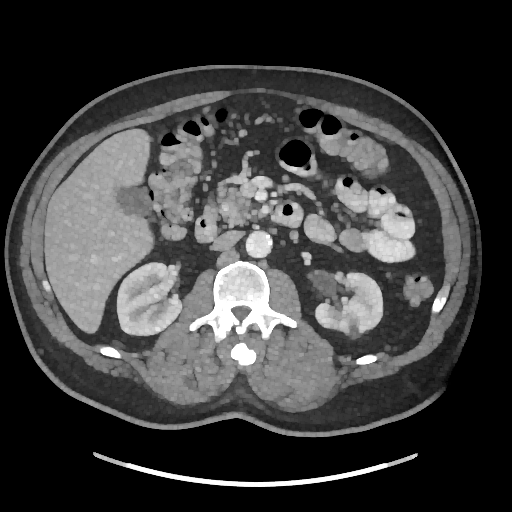Lesion: (347, 321, 359, 342)
